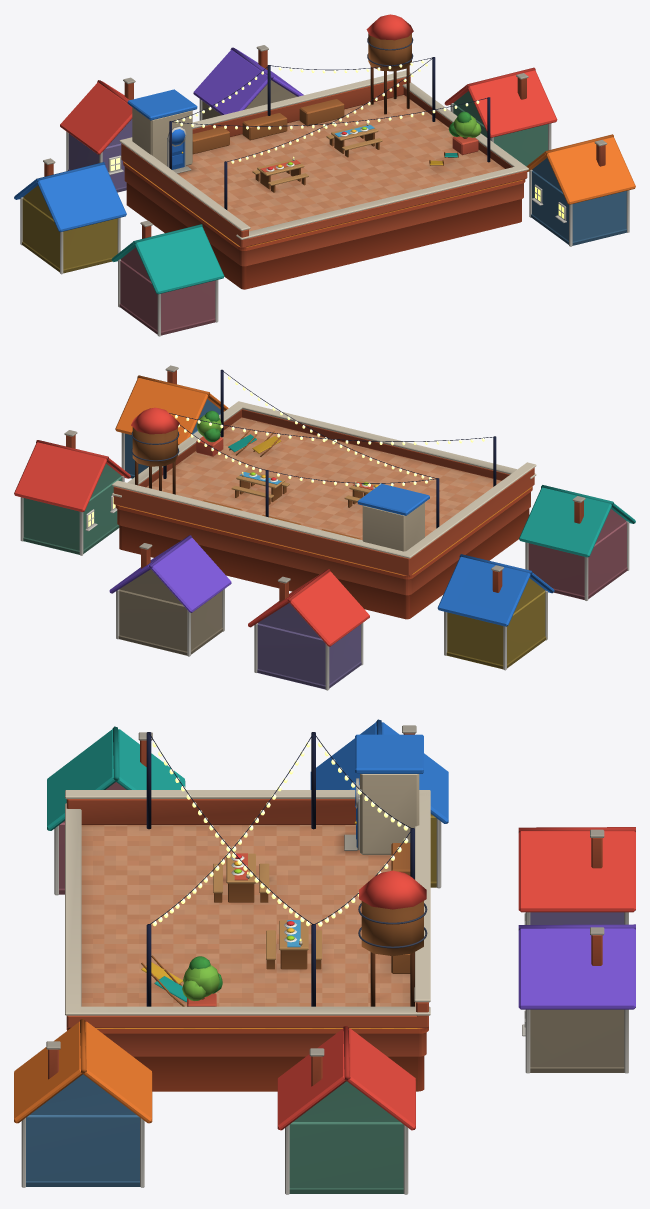
File: rooftop.glb
The picture shows the model from 3 angles, top to bottom: view 1: azimuth 30°, elevation 25°; view 2: azimuth 150°, elevation 25°; view 3: azimuth 270°, elevation 25°; orthographic projection. The views are drawn at different scales.
Visible parts, largest first — view 1: rooftop_Satin, rooftop_Gloss, rooftop_Matte, rooftop_Glow_warm; view 2: rooftop_Satin, rooftop_Gloss, rooftop_Matte, rooftop_Glow_warm; view 3: rooftop_Satin, rooftop_Gloss, rooftop_Matte, rooftop_Glow_warm.
Boxes of the visible parts, left/top/right/bottom form: rooftop_Satin: left=20, top=33, right=629, bottom=336; rooftop_Gloss: left=14, top=14, right=635, bottom=294; rooftop_Matte: left=123, top=161, right=525, bottom=250; rooftop_Glow_warm: left=110, top=60, right=564, bottom=218; rooftop_Satin: left=20, top=365, right=629, bottom=690; rooftop_Gloss: left=14, top=369, right=635, bottom=646; rooftop_Matte: left=115, top=486, right=532, bottom=579; rooftop_Glow_warm: left=88, top=376, right=484, bottom=526; rooftop_Satin: left=21, top=725, right=628, bottom=1194; rooftop_Gloss: left=14, top=719, right=635, bottom=1130; rooftop_Matte: left=66, top=1027, right=428, bottom=1033; rooftop_Glow_warm: left=152, top=742, right=408, bottom=941.
Bounding box in the file's own units: 25.56 × 7.8 × 18.88.
